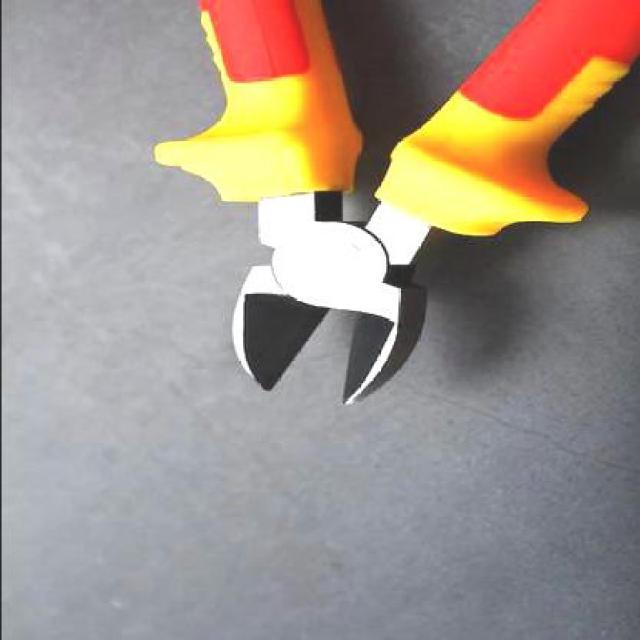pliers: (147, 0, 638, 408)
